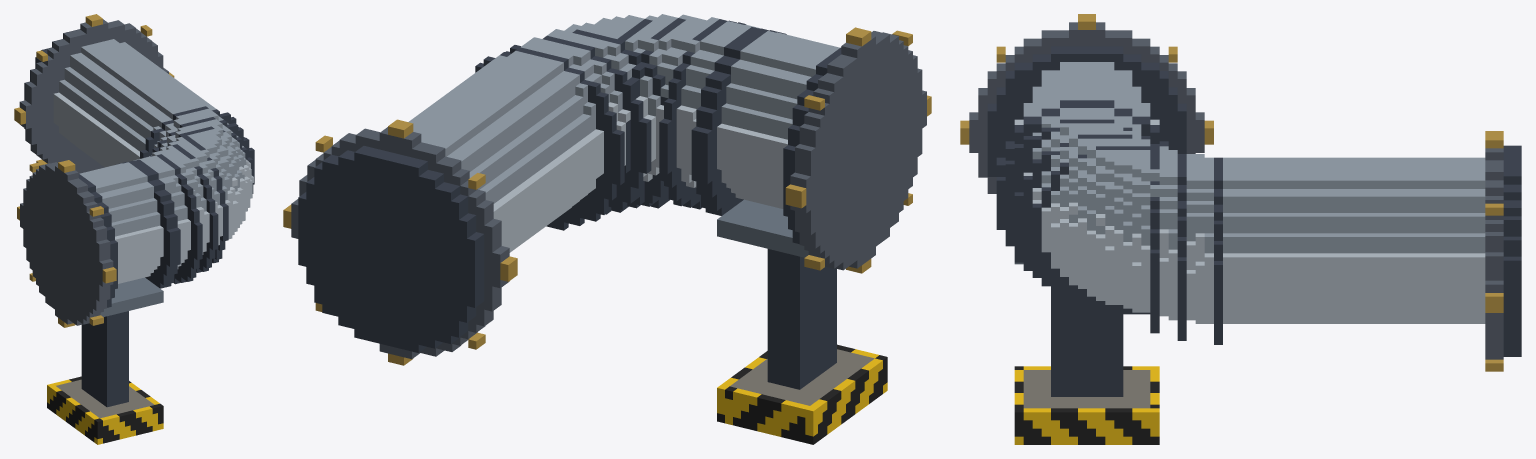
File: pipe_elbow.obj
3 renders of one model, left to right at view 1: azimuth 30°, elevation 25°; view 2: azimuth 150°, elevation 25°; view 3: azimuth 270°, elevation 25°, orthographic. The views are drawn at different scales.
Visible parts, largest first — view 1: pipe_elbow; view 2: pipe_elbow; view 3: pipe_elbow.
Boxes of the visible parts, x1,y1,x2,y2 form: pipe_elbow: [14, 14, 254, 444]; pipe_elbow: [283, 14, 931, 444]; pipe_elbow: [960, 14, 1521, 444].
Size of the model in its own units: 1.44 by 1.44 by 1.94.
